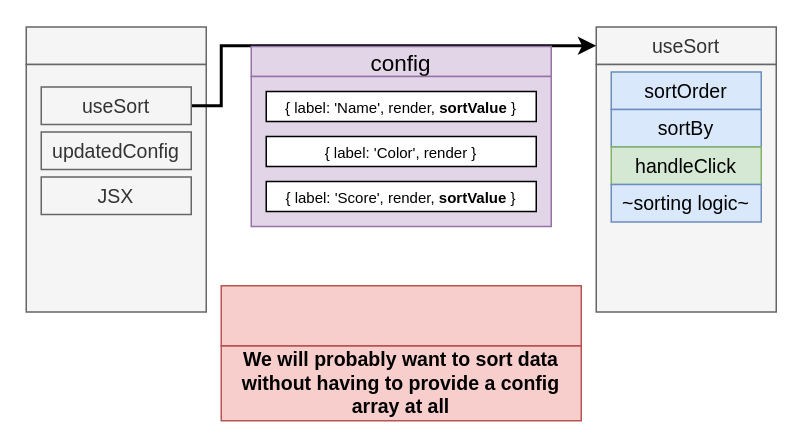
The diagram is 803 pixels wide and 447 high, and some of its shapes have lost their labels. Each missing label, with the box of its shape:
SortableTable: (25, 26, 206, 64)
useSort will only work if given a 'config' array.: (220, 284, 581, 346)
